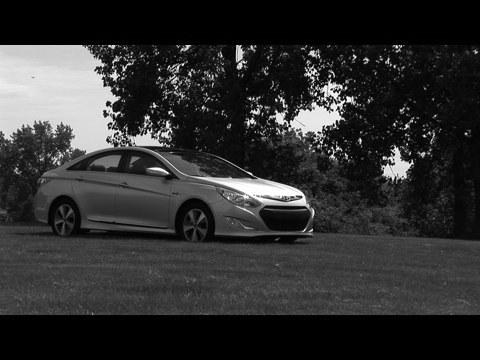car: (36, 147, 316, 245)
